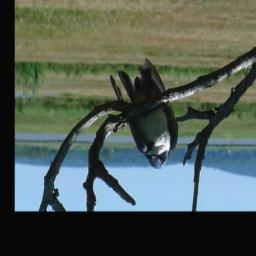Swallow: (107, 56, 181, 172)
